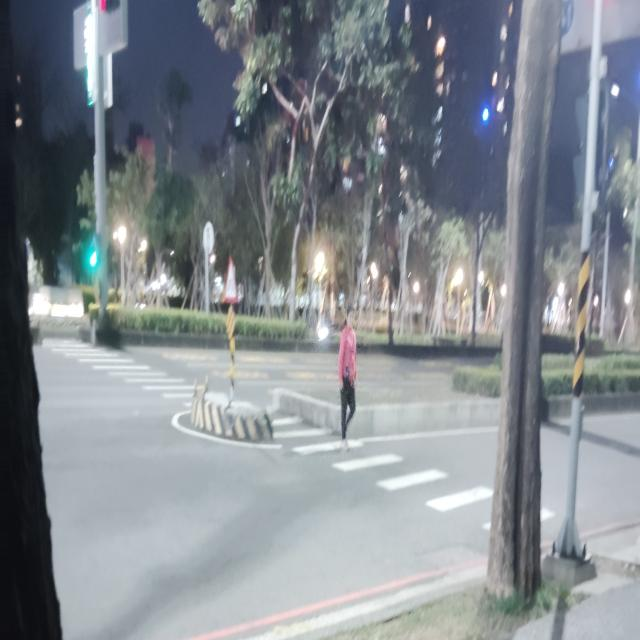person: (339, 312, 356, 445)
zebra crossing: (50, 340, 494, 533)
